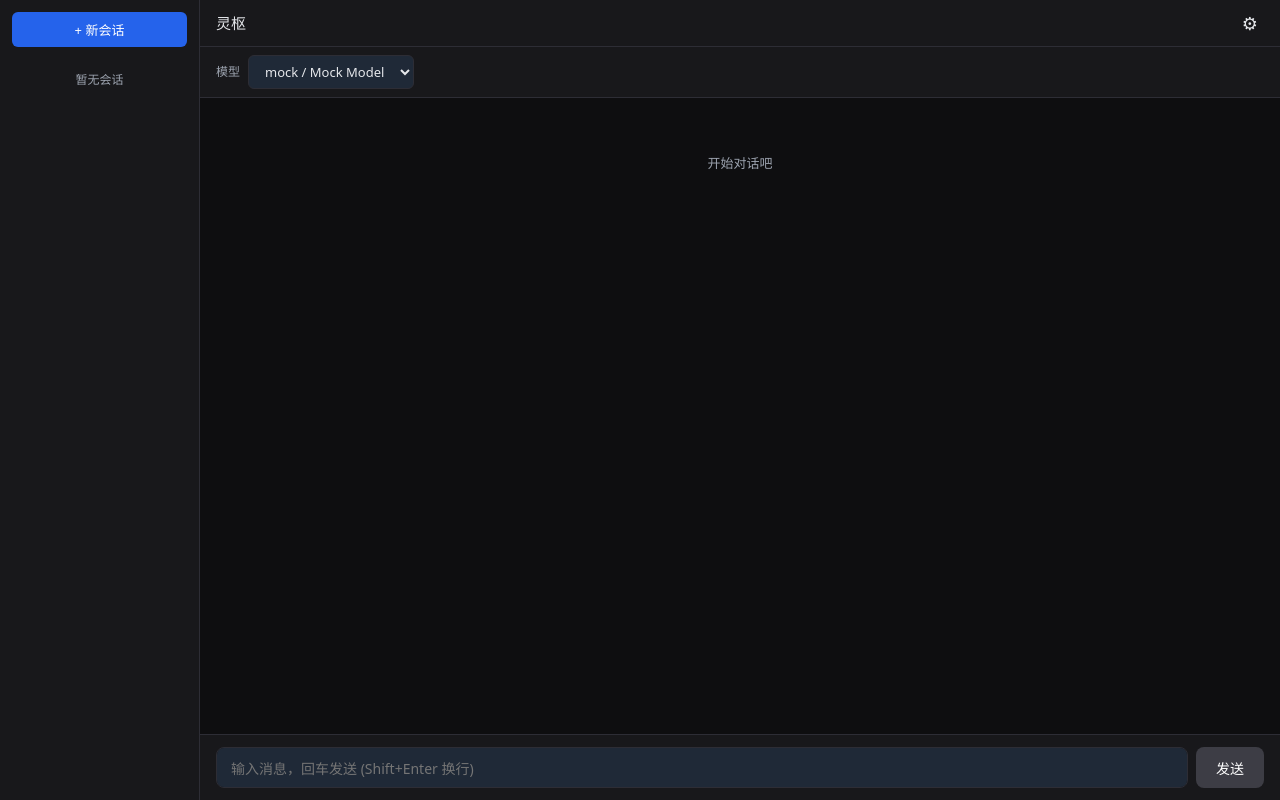
Test case: ChatPanel integration (MVP) › user can type, send, and see streamed response
Type "你好" into the text box with test id "input" at (702, 768), box top-left (216, 747), bottom-right (1188, 788)
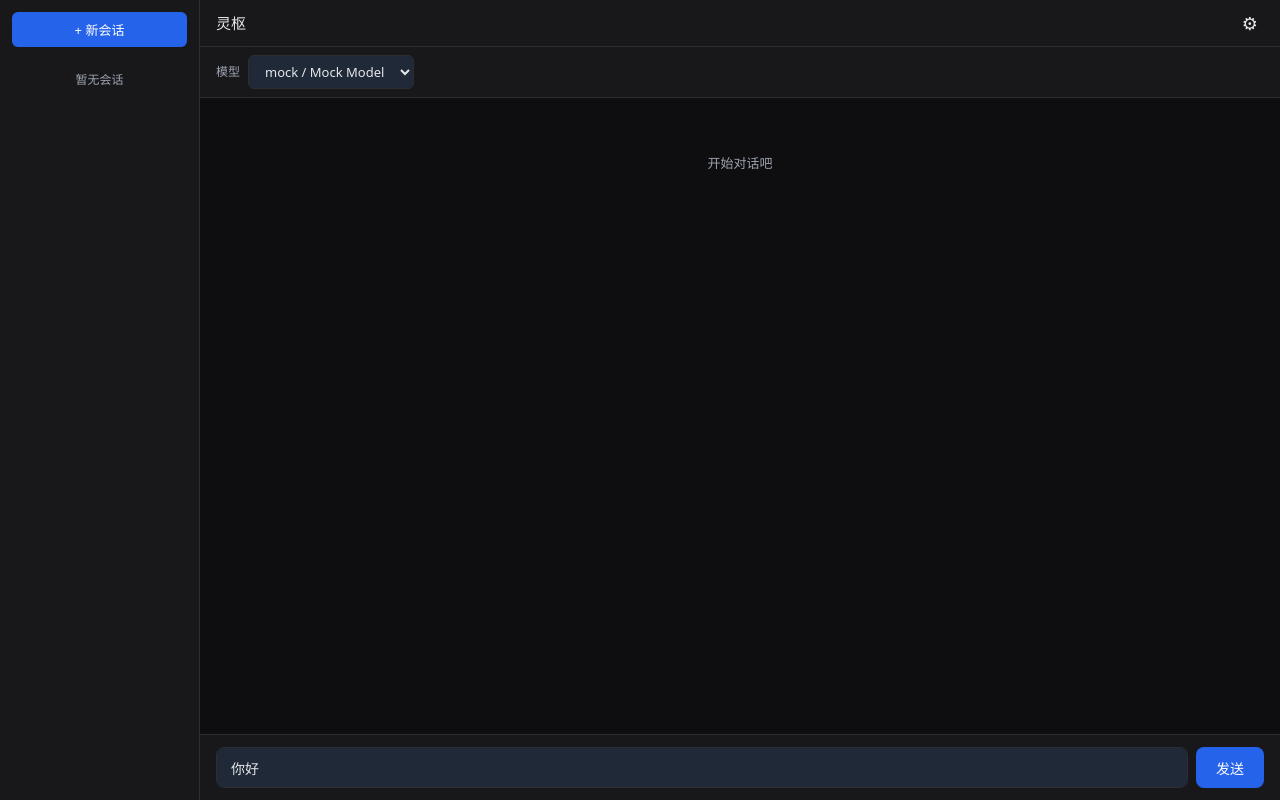
Click the button with test id "send-button" at (1230, 768), box top-left (1196, 747), bottom-right (1264, 788)
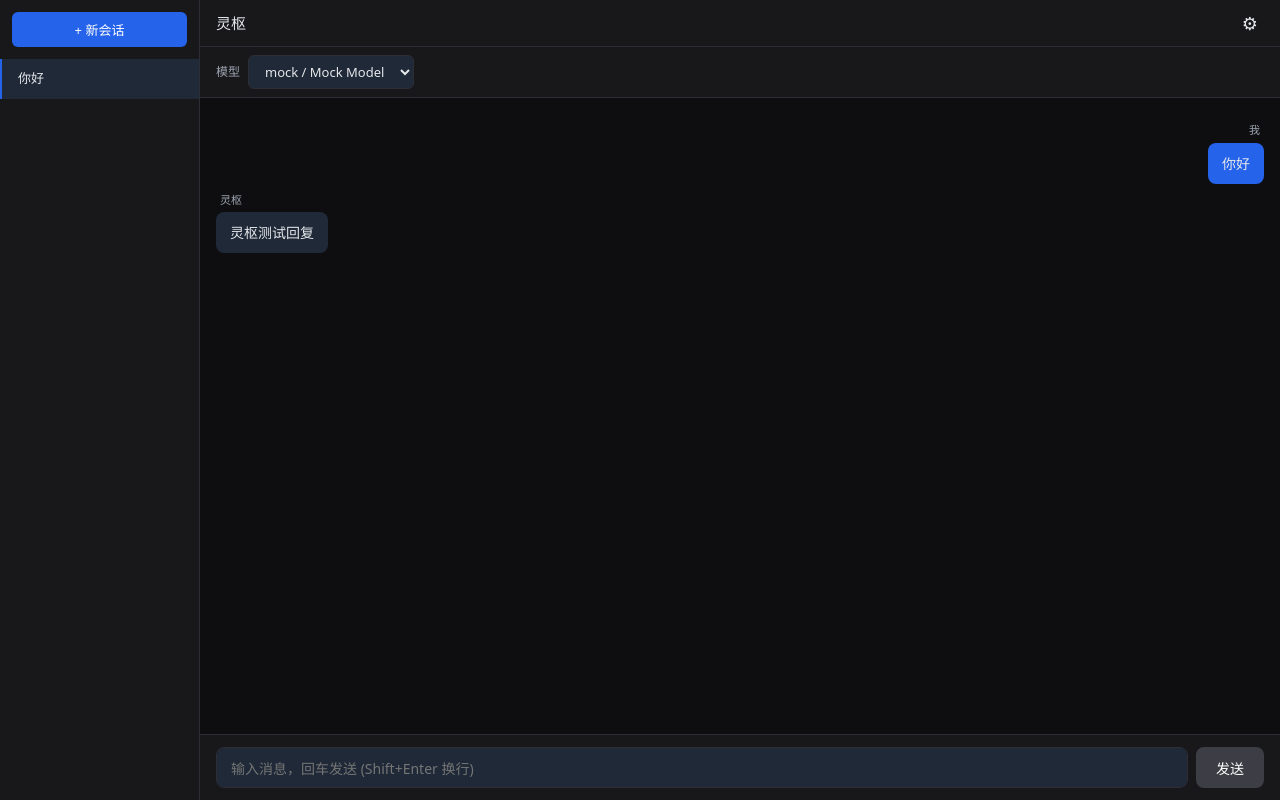
expect the text "灵枢测试回复" is shown: met, box top-left (216, 212), bottom-right (328, 253)
